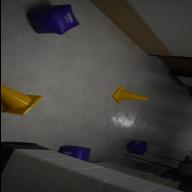cone: (0, 84, 42, 116), (111, 86, 148, 104)
cube: (28, 4, 79, 35), (57, 146, 90, 162), (126, 140, 148, 156)
